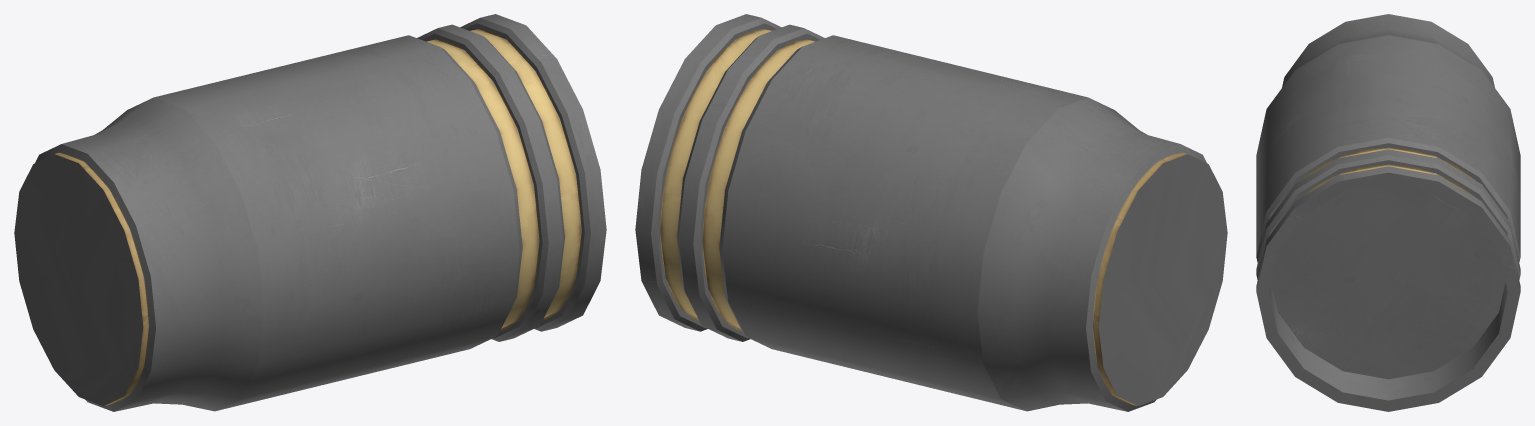
File: guard_14_c_b.glb
The picture shows the model from 3 angles, left to right: view 1: azimuth 30°, elevation 25°; view 2: azimuth 150°, elevation 25°; view 3: azimuth 270°, elevation 25°; orthographic projection. The views are drawn at different scales.
Parts seen in each view (by area): view 1: guard_14_c_b_lod0; view 2: guard_14_c_b_lod0; view 3: guard_14_c_b_lod0.
Boxes of the visible parts, left/top/right/bottom form: guard_14_c_b_lod0: left=14, top=14, right=606, bottom=411; guard_14_c_b_lod0: left=635, top=14, right=1227, bottom=411; guard_14_c_b_lod0: left=1256, top=14, right=1520, bottom=411.
Size of what is drawn, in the model's own units: 0.0569 by 0.0354 by 0.0354.
1 material, 1 textured.
